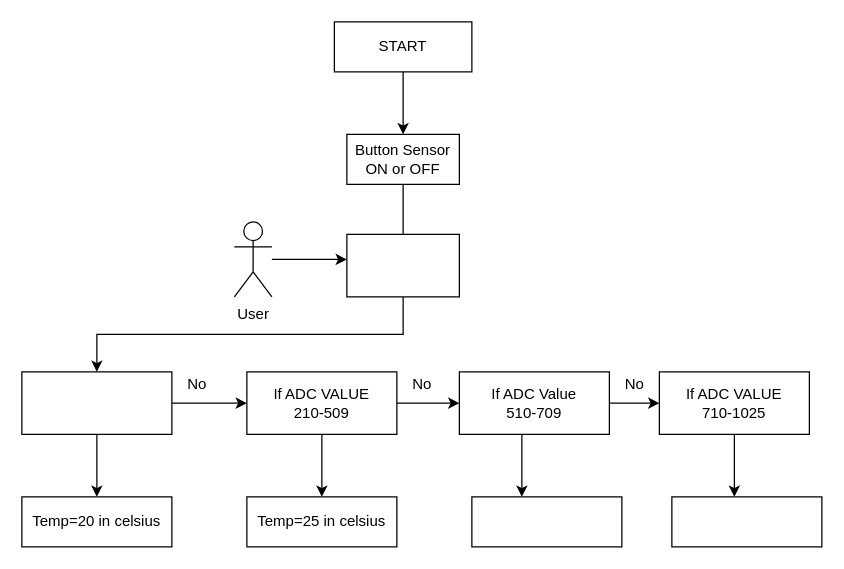
Some shapes in this 844 by 569 pixel diagram are drawn without their labels. Here are the shapes that lost their labels. From the top down, the box of each, then its label:
(346, 233, 459, 297): ADC VALUE
(21, 371, 172, 434): If ADC VALUE 0-209
(471, 496, 622, 547): Temp=29 in celsius
(671, 496, 822, 547): Temp=33 in celsius
